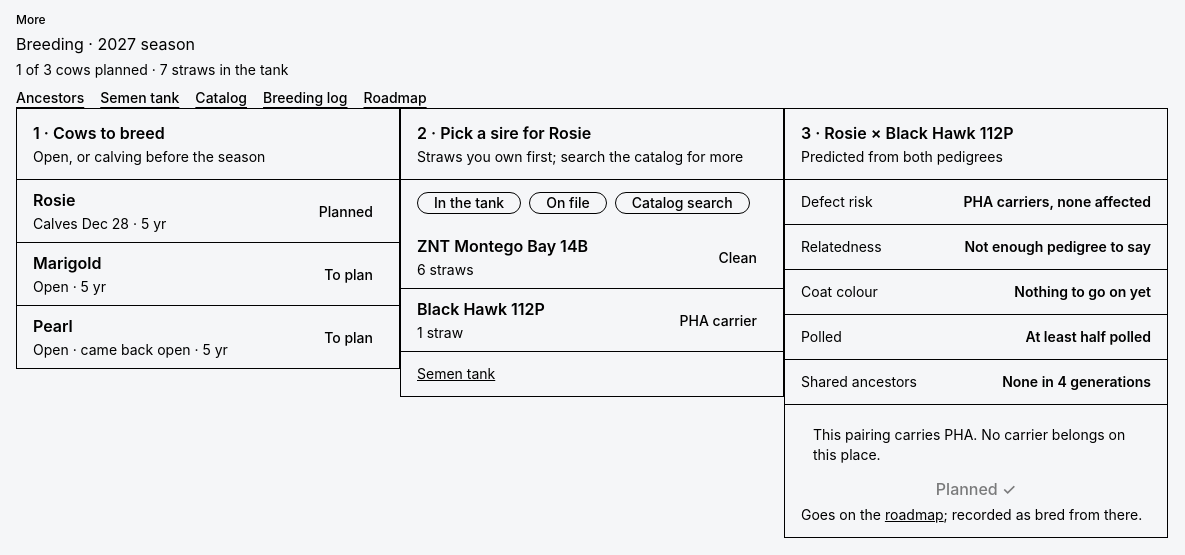
Test case: The breeding workspace › searches the catalog and only picks a bull already on file
Click the button "Catalog search".
click(682, 203)  # box [615, 192, 750, 214]
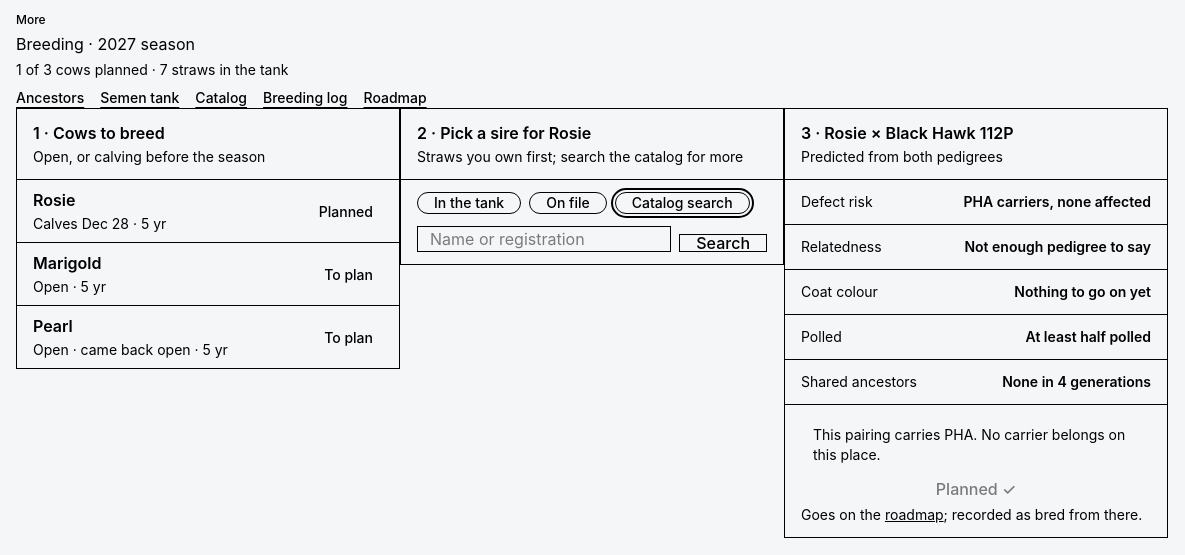
Type "montego" into the field labelled "Name or registration".
click(544, 239); type("montego")  # box [417, 226, 671, 252]
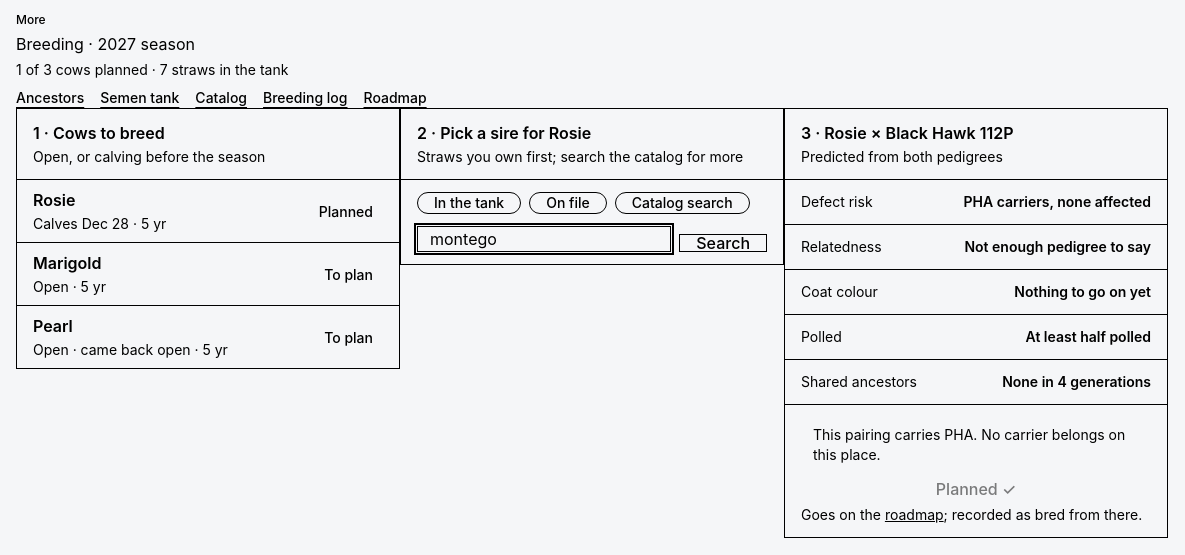
Click the button "Search".
click(723, 243)  # box [679, 234, 767, 252]
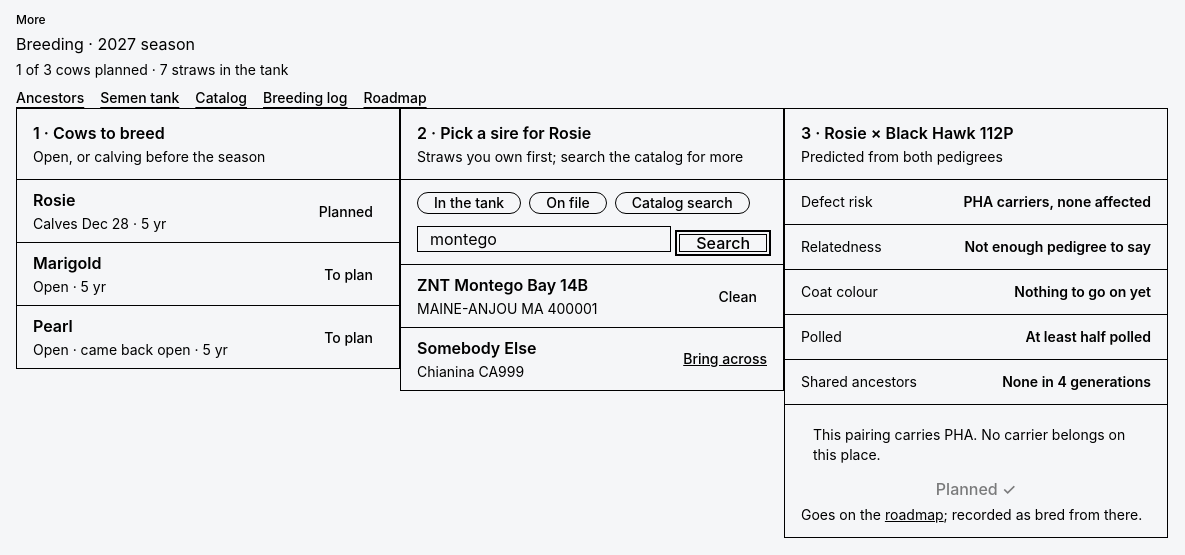
Now the button "ZNT Montego Bay 14B MAINE-ANJOU MA 400001 Clean" is shown, box [401, 265, 783, 327]
